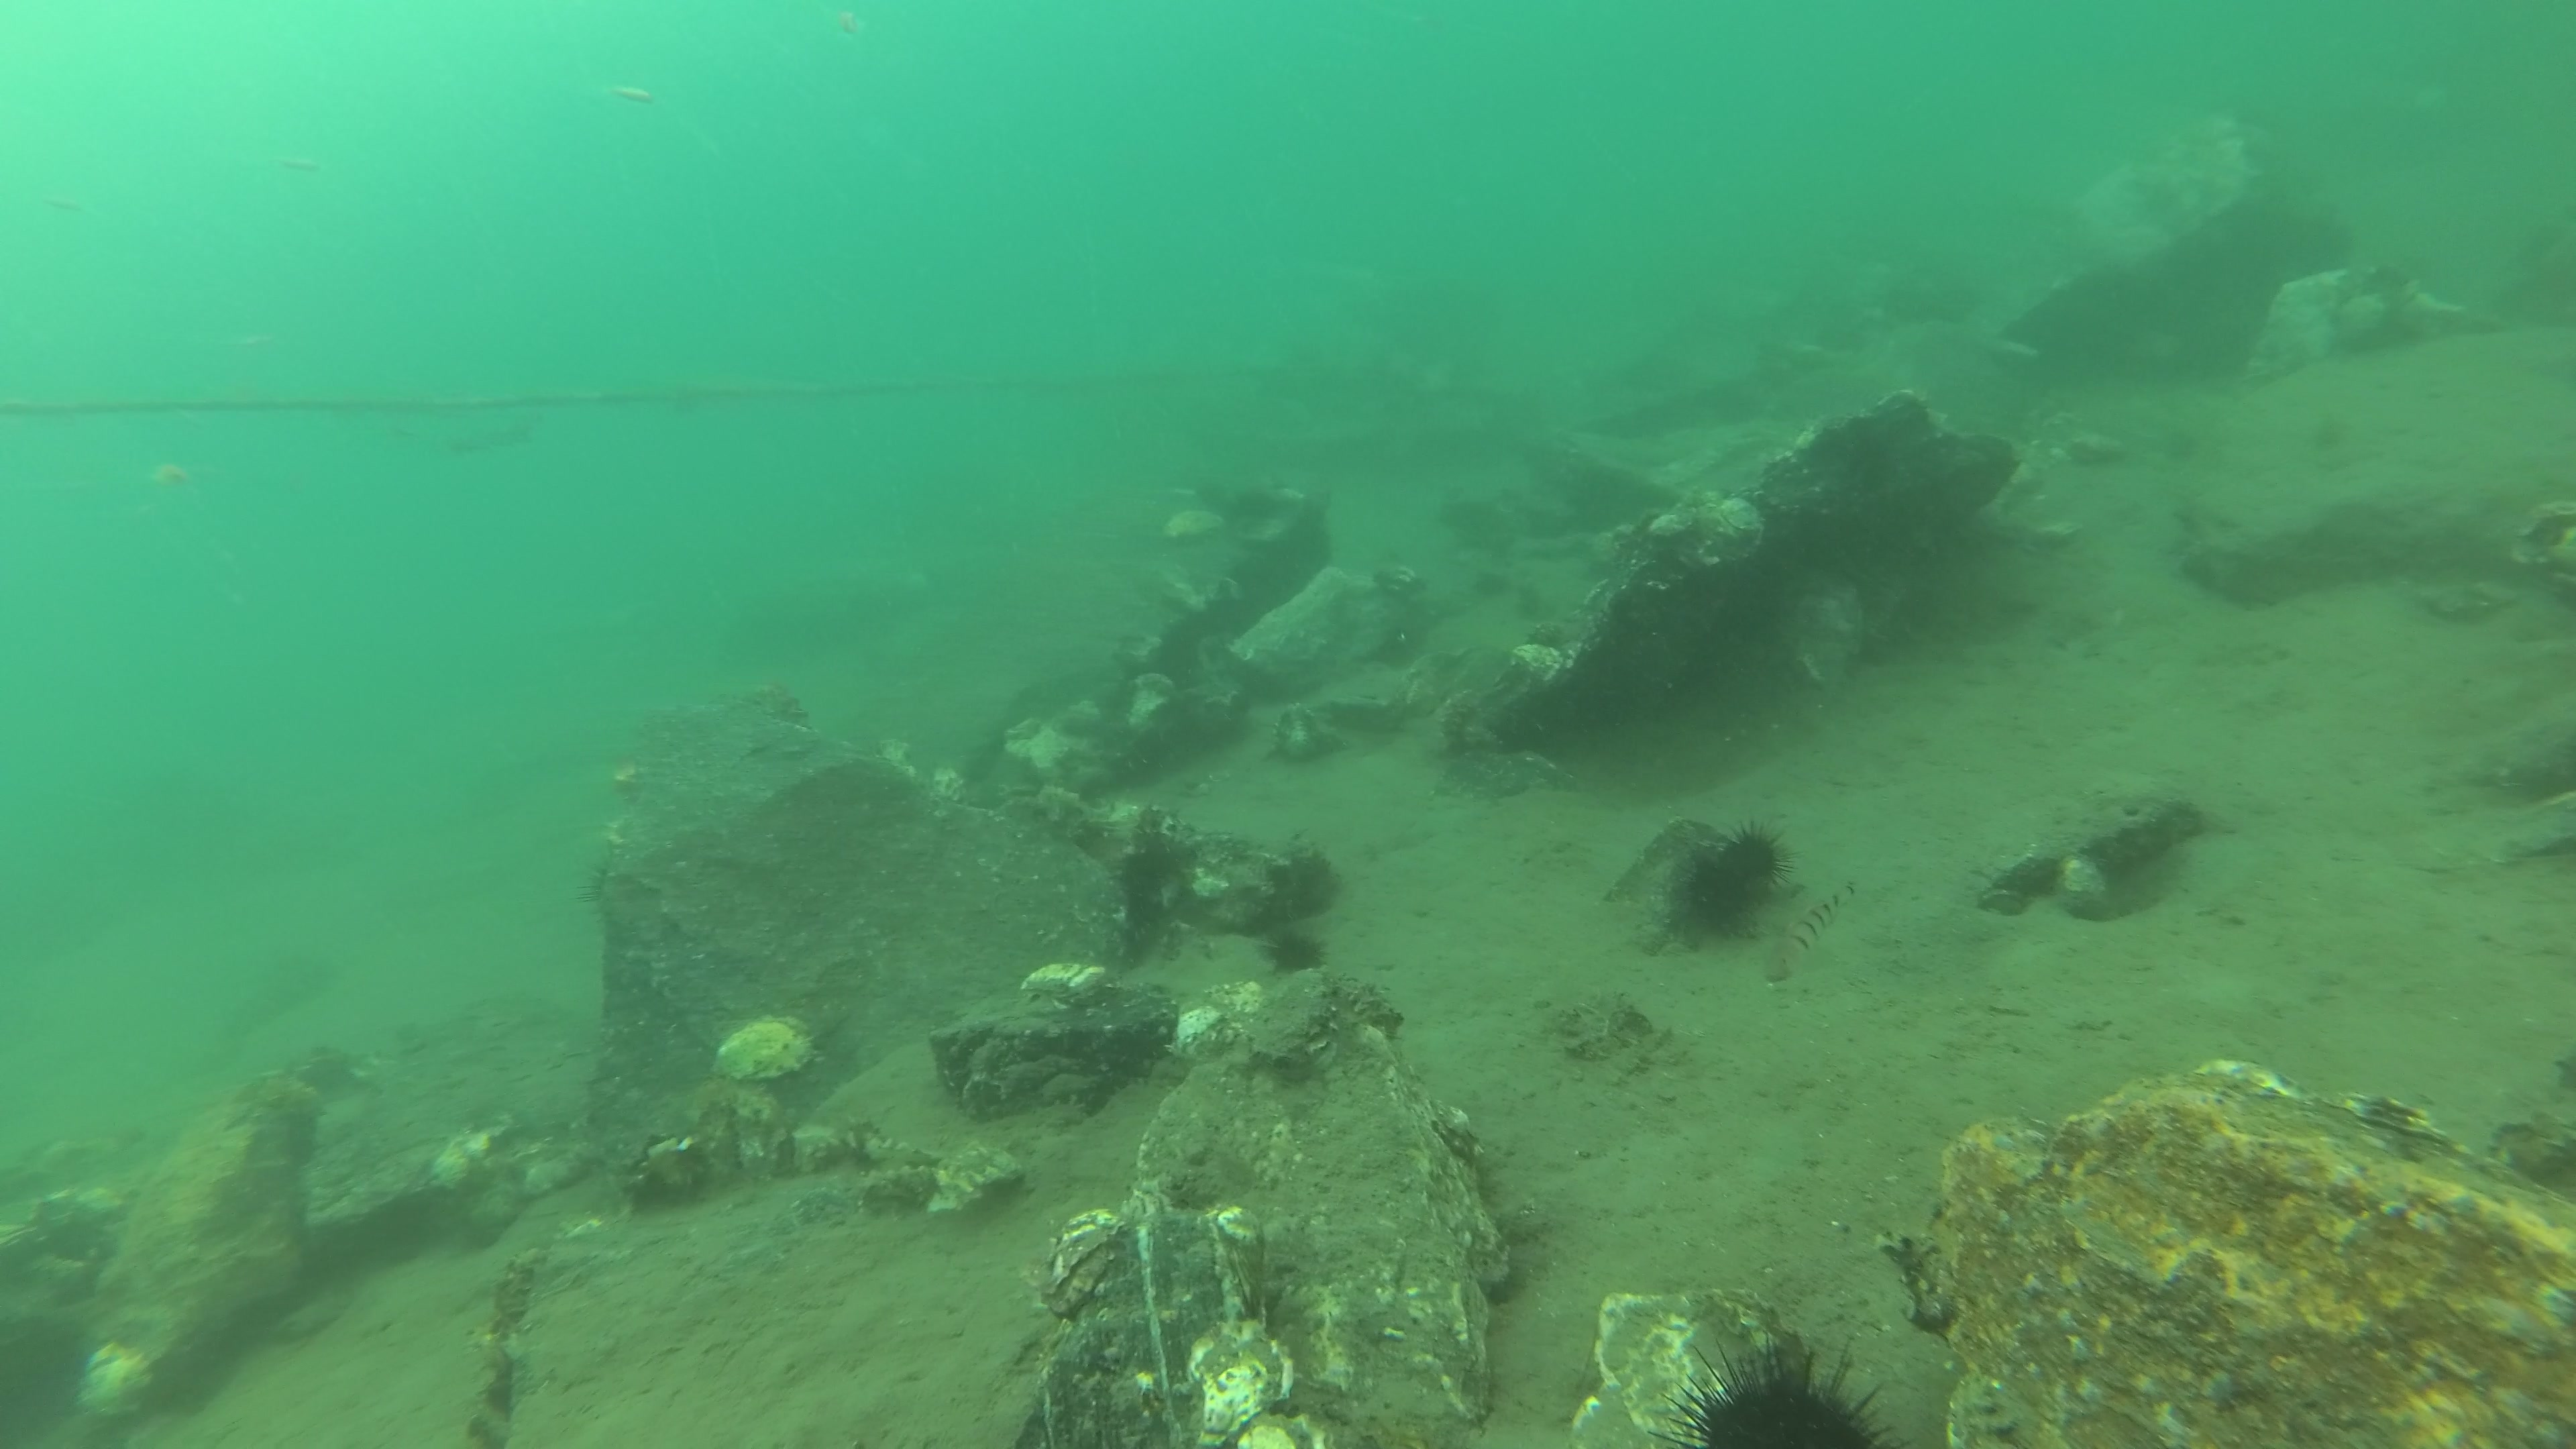echinus: (1642, 1332, 1911, 1449), (1672, 855, 1757, 934), (1723, 814, 1801, 897), (1256, 927, 1332, 971), (571, 860, 610, 924)
